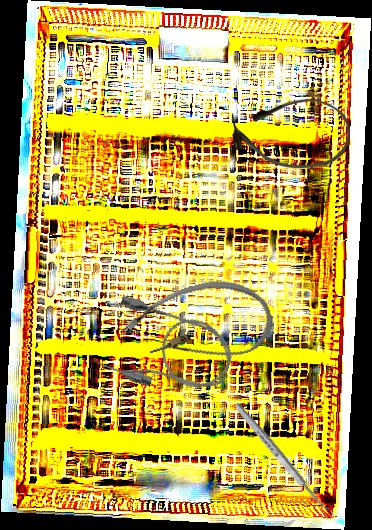Cannula: (117, 267, 280, 384), (92, 292, 240, 408), (231, 96, 351, 171)
Surgical Spoon: (232, 401, 336, 522)
